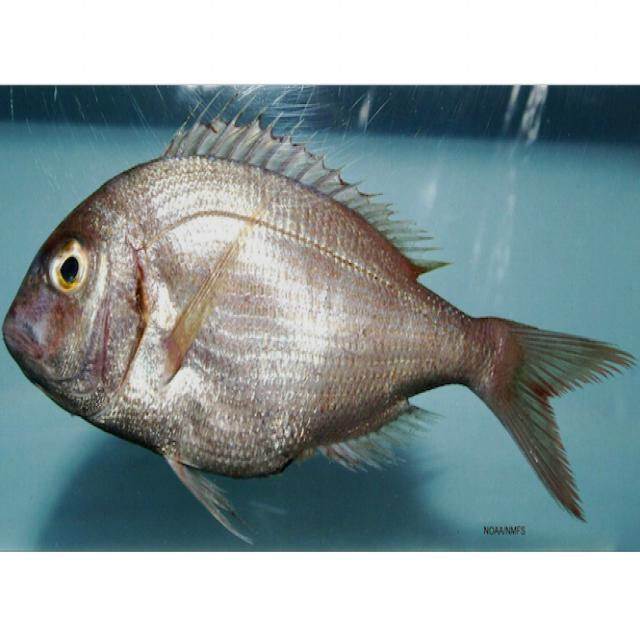Healthy Fish: (2, 118, 638, 549)
